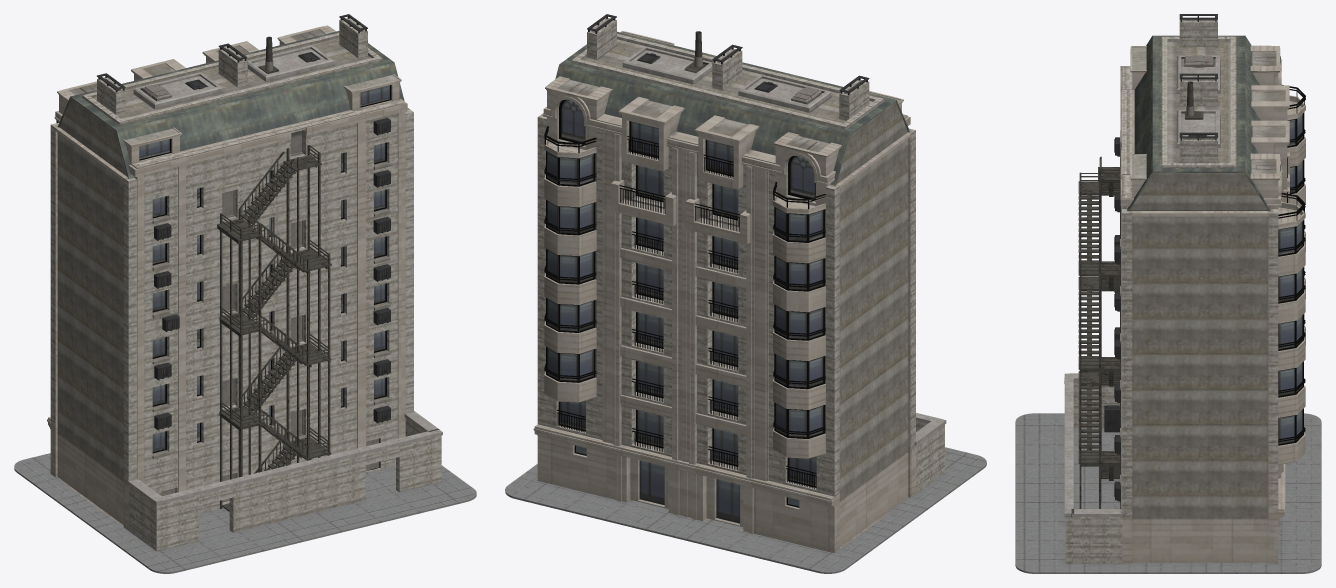
The model's file is bld22_05.glb.
The picture shows the model from 3 angles, left to right: view 1: azimuth 30°, elevation 25°; view 2: azimuth 150°, elevation 25°; view 3: azimuth 270°, elevation 25°; orthographic projection. The views are drawn at different scales.
Visible parts, largest first — view 1: bld22_05; view 2: bld22_05; view 3: bld22_05.
Part boxes in pixels (x1,y1,x2,y2): bld22_05: (14, 14, 476, 573); bld22_05: (505, 14, 986, 573); bld22_05: (1015, 14, 1321, 573).
Size of the model in its own units: 39.66 by 49.89 by 32.27.
Materials: 1 (1 with a texture image).
